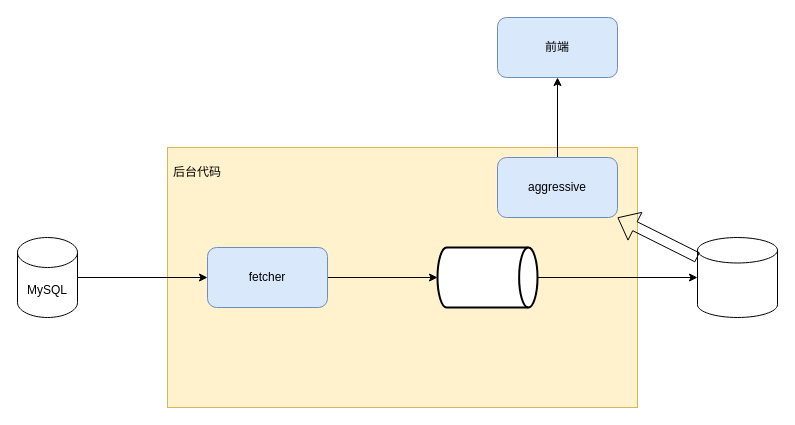
Some shapes in this 795 by 425 pixel diagram are drawn without their labels. The centre of each missing label's shape, as x and y in pixels:
"clickhouse" goes at (x=737, y=277).
"Kafka" goes at (x=487, y=277).
